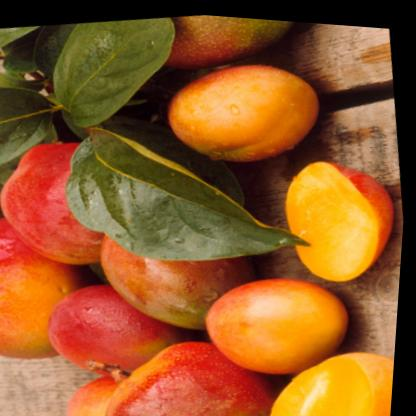--: (149, 43, 339, 180), (90, 318, 313, 416), (197, 252, 364, 381), (266, 141, 409, 289), (259, 325, 400, 416)
